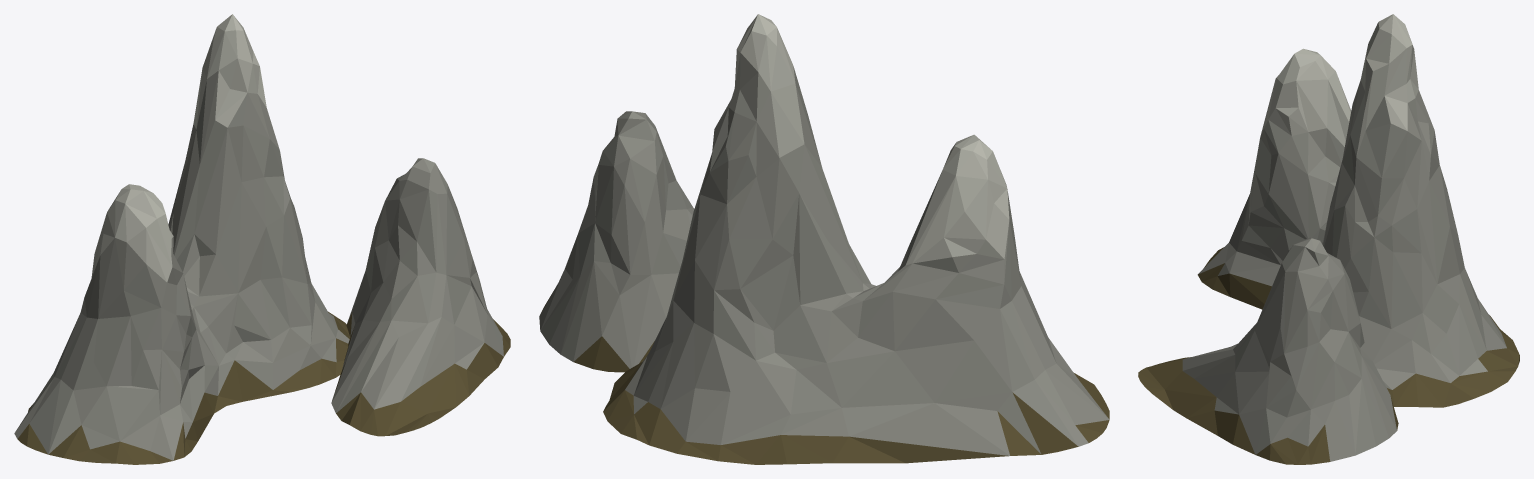
The model's file is Mountain Group.glb.
3 views of the same model, side by side, from view 1: azimuth 30°, elevation 25°; view 2: azimuth 150°, elevation 25°; view 3: azimuth 270°, elevation 25° (orthographic). The views are drawn at different scales.
Visible parts, largest first — view 1: Mountain_Group_2; view 2: Mountain_Group_2; view 3: Mountain_Group_2.
Boxes of the visible parts, box(x1,y1,x2,y2) form: Mountain_Group_2: box(14, 14, 510, 464); Mountain_Group_2: box(539, 14, 1109, 464); Mountain_Group_2: box(1138, 14, 1519, 464).
Bounding box in the file's own units: 3.58 × 2.44 × 2.46.
